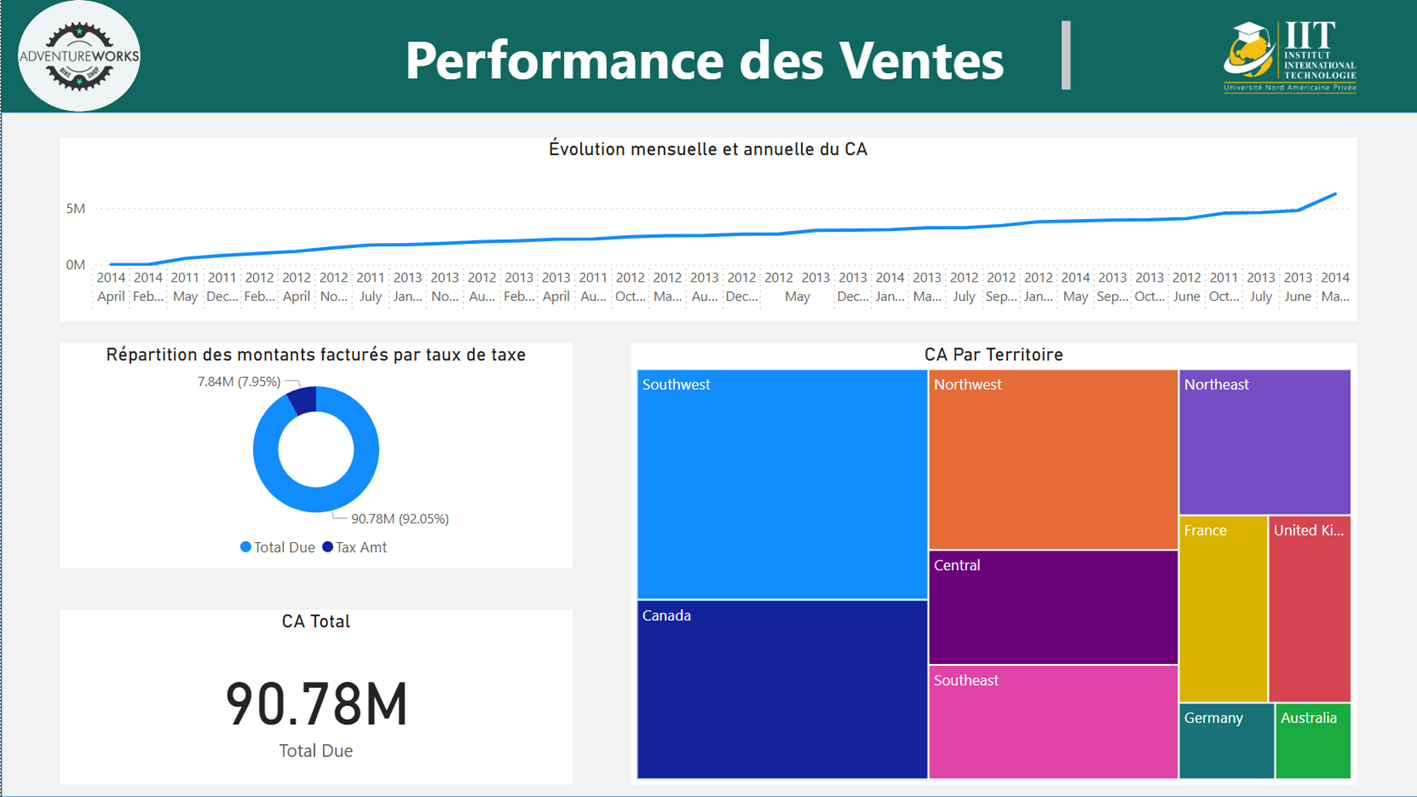

The dashboard page shown, as its layout file describes it:
{"tool":"powerbi","page":{"name":"Perormance de ventes","canvas":[1280,720],"ordinal":1},"visuals":[{"type":"shape","title":"BG TOP","box":[0,101,1280,619],"z":0},{"type":"shape","box":[0,0,1280,101.4],"z":1000},{"type":"shape","box":[15,0,110.7,100.7],"z":2000},{"type":"image","box":[1048,0,232,101],"z":3000},{"type":"image","box":[0,0,142.1,101.4],"z":4000},{"type":"textbox","box":[308,14,663,73],"z":5000},{"type":"lineChart","title":"Évolution mensuelle et annuelle du CA","fields":{"Category":["Dim Date.Month Name","Dim Date.Year"],"Y":["Fact En Magasin.Total Due"]},"box":[53,124,1171,166],"z":6000},{"type":"donutChart","title":"Répartition des montants facturés par taux de taxe","fields":{"Y":["Fact En Magasin.Total Due","Fact En Magasin.Tax Amt"]},"box":[53,309,463,203],"z":7000},{"type":"treemap","title":"CA Par Territoire","fields":{"Group":["Dim Territoire.Name"],"Values":["Fact En Magasin.Total Due"]},"box":[569,309,655,399],"z":8000},{"type":"card","title":"CA Total","fields":{"Values":["Fact En Magasin.Total Due"]},"box":[53,550,463,158],"z":9000},{"type":"actionButton","box":[3.1,103.8,41.5,40],"z":10000}]}

Visuals, with their boxes in screenshot pixels (x1, y1, x2, y2), scaled from the page's 1280x720 canvas onto the 1417x797 screenshot:
"BG TOP" shape: [x1=0, y1=112, x2=1416, y2=796]
shape: [x1=0, y1=0, x2=1416, y2=112]
shape: [x1=17, y1=0, x2=139, y2=111]
image: [x1=1160, y1=0, x2=1416, y2=112]
image: [x1=0, y1=0, x2=157, y2=112]
textbox: [x1=341, y1=15, x2=1075, y2=96]
"Évolution mensuelle et annuelle du CA" lineChart: [x1=59, y1=137, x2=1355, y2=321]
"Répartition des montants facturés par taux de taxe" donutChart: [x1=59, y1=342, x2=571, y2=567]
"CA Par Territoire" treemap: [x1=630, y1=342, x2=1355, y2=784]
"CA Total" card: [x1=59, y1=609, x2=571, y2=784]
actionButton: [x1=3, y1=115, x2=49, y2=159]
